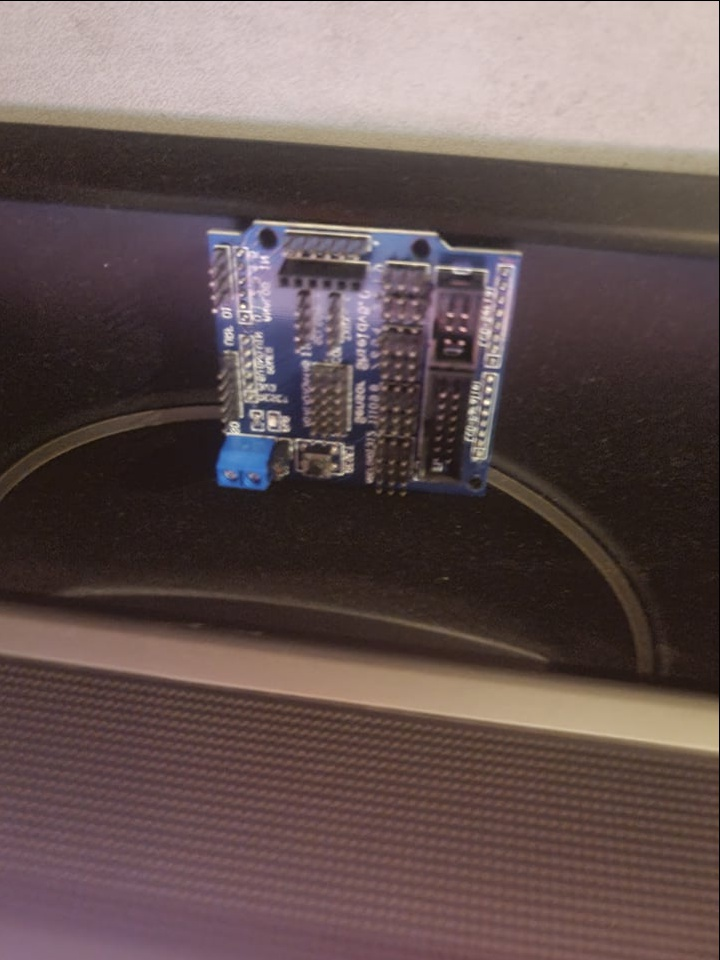5V EXPANSION: (209, 217, 526, 495)
